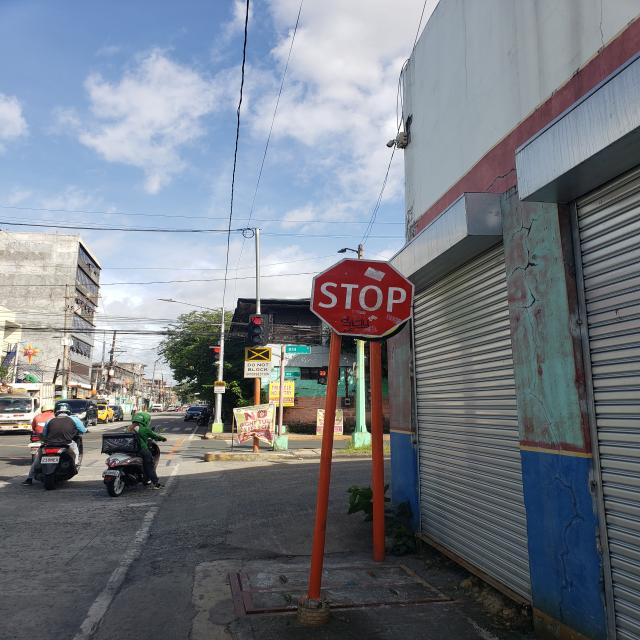stop-sign: (310, 257, 416, 338)
